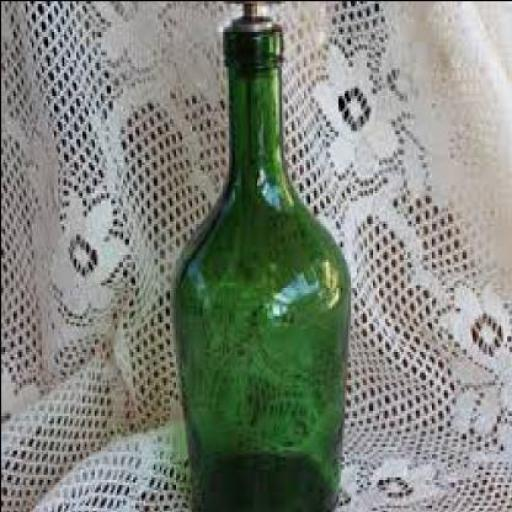glass: (170, 12, 354, 510)
